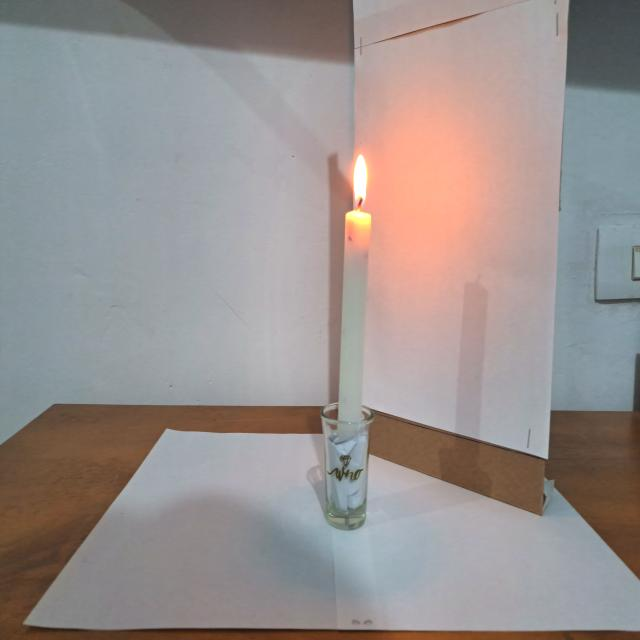candle: (320, 147, 377, 532)
wall: (348, 0, 562, 520)
